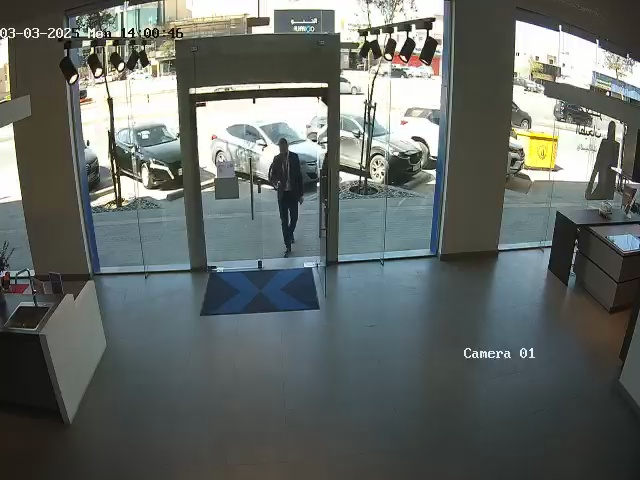employee: (268, 137, 304, 256)
